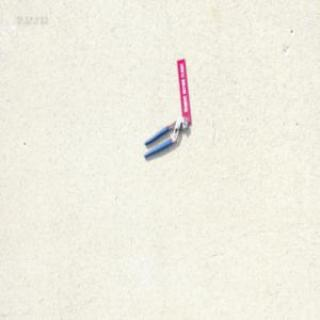LuggageTagtrack_idkeyframe: (176, 56, 190, 123)
Pliertrack_idkeyframe: (142, 115, 187, 157)
